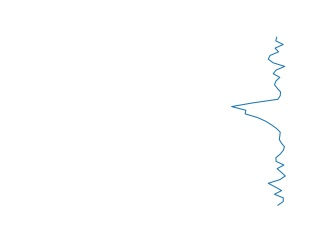interdistributaryEstuary: (229, 37, 292, 207)
